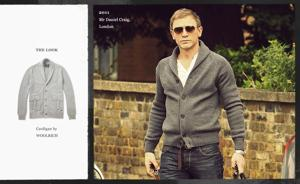S_cardigan sweater: (143, 46, 248, 157), (11, 57, 76, 123)
